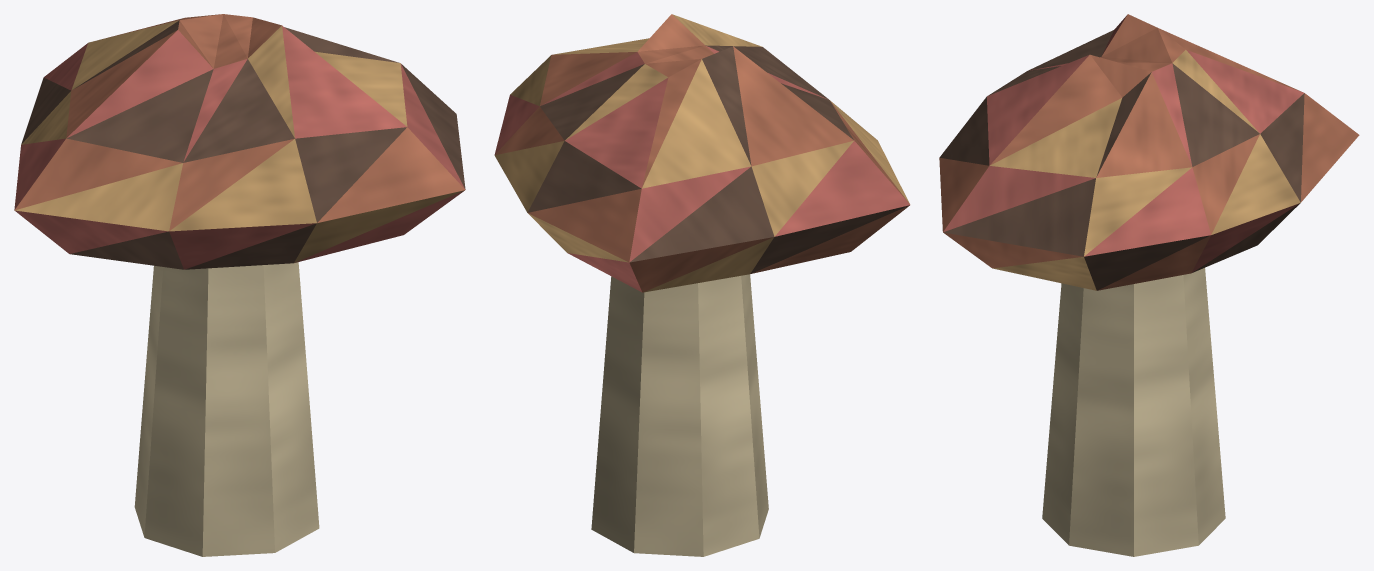
The model's file is mushroom_small_set_06.fbx.
The picture shows the model from 3 angles, left to right: view 1: azimuth 30°, elevation 25°; view 2: azimuth 150°, elevation 25°; view 3: azimuth 270°, elevation 25°; orthographic projection. The views are drawn at different scales.
Parts seen in each view (by area): view 1: mushroom_small_set_06; view 2: mushroom_small_set_06; view 3: mushroom_small_set_06.
Boxes of the visible parts, x1,y1,x2,y2 form: mushroom_small_set_06: (14,14,465,556); mushroom_small_set_06: (494,14,910,556); mushroom_small_set_06: (939,14,1359,556).
Bounding box in the file's own units: 25.92 × 29 × 23.
Materials: 1 (1 with a texture image).
